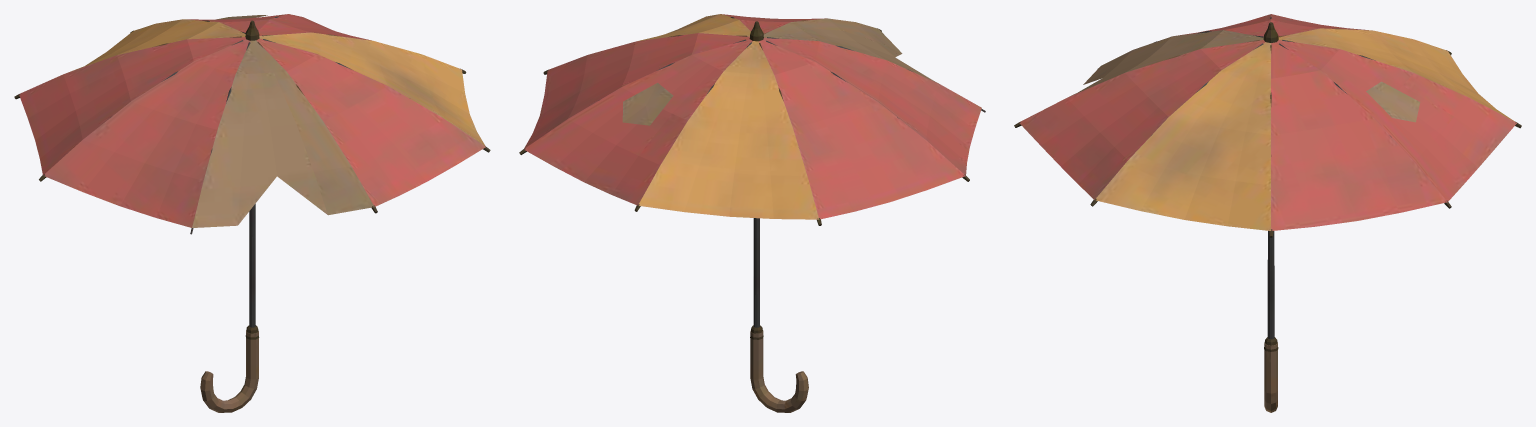
Rendered from D12_old_umbrella_v1.glb.
3 renders of one model, left to right at view 1: azimuth 30°, elevation 25°; view 2: azimuth 150°, elevation 25°; view 3: azimuth 270°, elevation 25°, orthographic. The views are drawn at different scales.
Parts seen in each view (by area): view 1: Canopy gore; view 2: Canopy gore; view 3: Canopy gore.
Boxes of the visible parts, x1,y1,x2,y2 form: Canopy gore: (14,14,490,412); Canopy gore: (519,14,985,412); Canopy gore: (1014,14,1521,412).
Size of the model in its own units: 0.9 by 0.7768 by 0.8976.
Materials: 7 (7 with a texture image).
